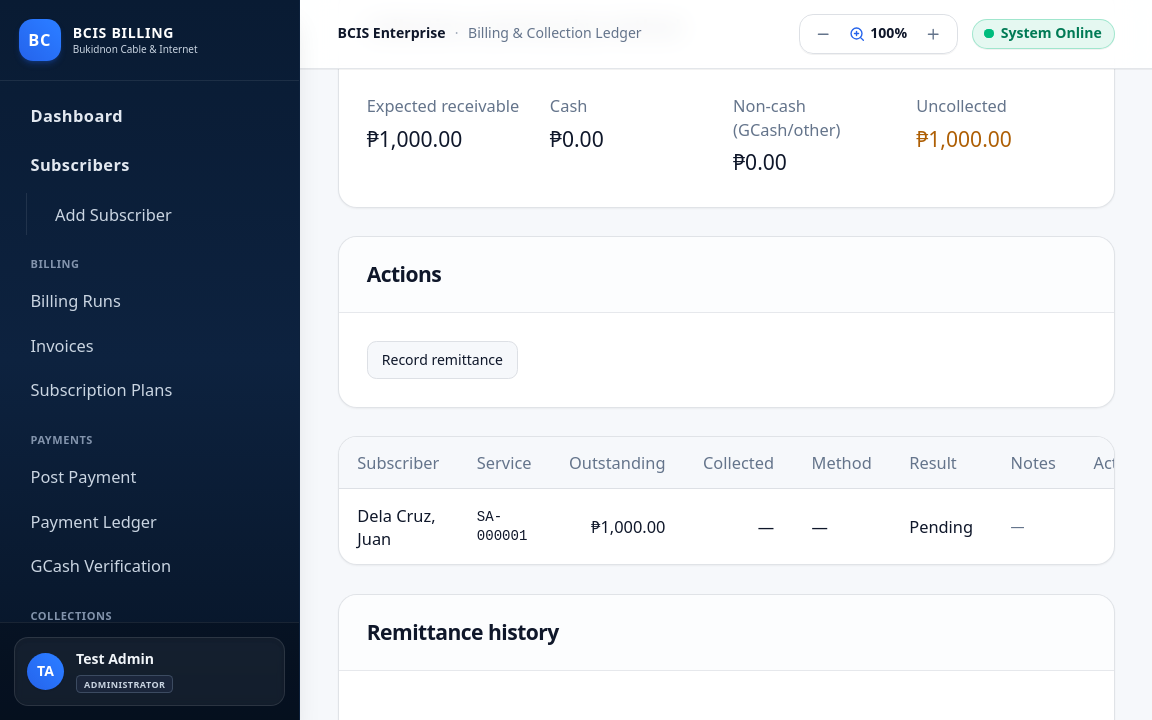
Test: CollectorBatchDetailPage lifecycle actions › shows a shortage warning for a shortfall and none when the totals match
(page scrolled)
Step 1. Click the button "Record remittance" → (442, 360), box [367,341,518,379]
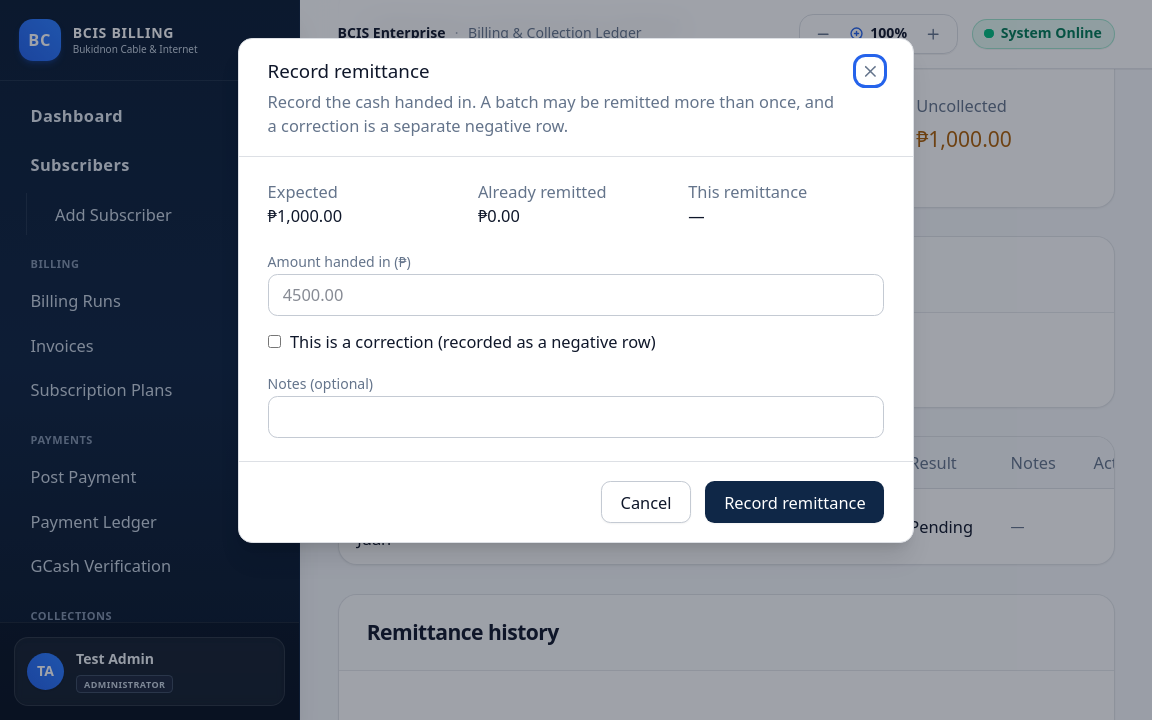
# ₱500.00 handed in against ₱1,000.00 collected is a ₱500.00 shortage.
Step 2. Type "500" into the field with placeholder "4500.00" → (576, 295), box [268,274,884,316]
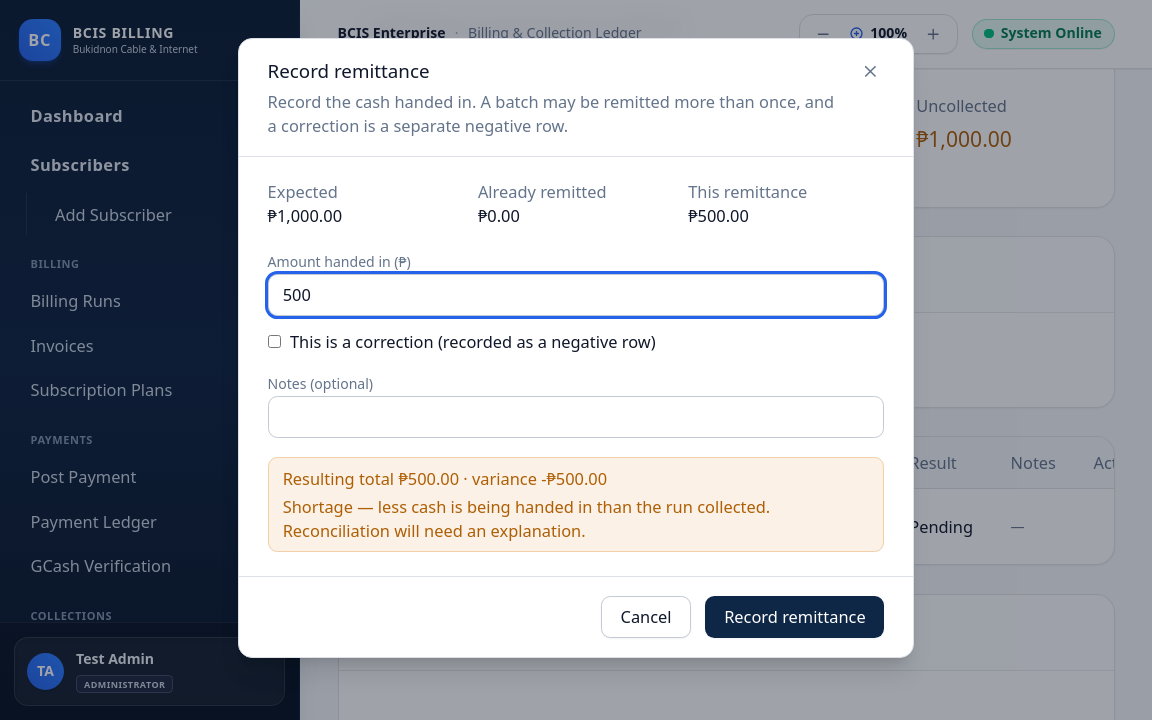
Expected: the text "Balanced" is not shown
Expected: the text "Shortage" is shown, [283,495,770,542]
Step 3. Replace the text in the field with placeholder "4500.00" with "1000" → (576, 295), box [268,274,884,316]
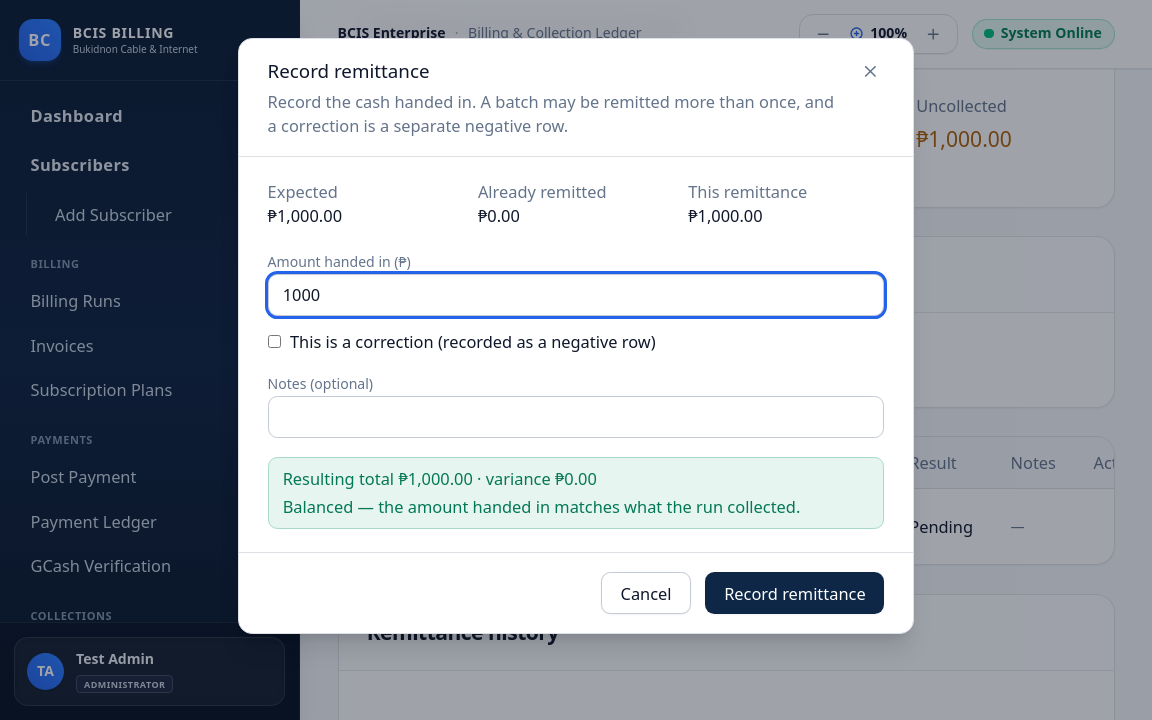
Expected: the text "Shortage" is not shown
Expected: the text "Balanced" is shown, [283,495,800,518]
